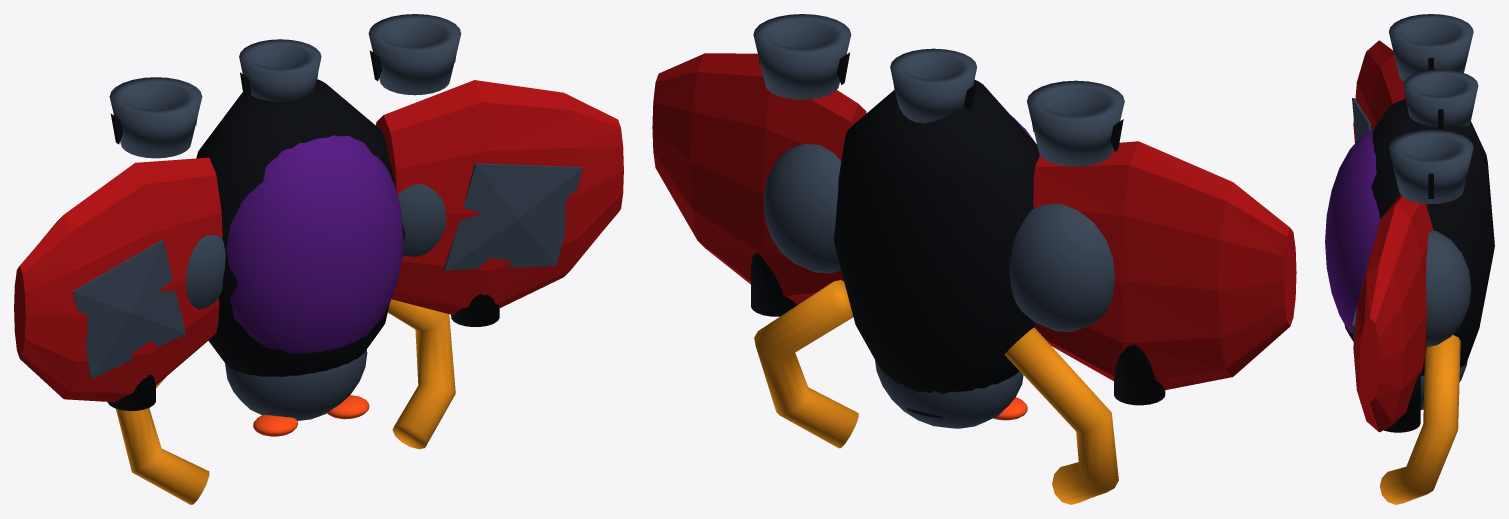
Rendered from jefe_acorazado.obj.
3 renders of one model, left to right at view 1: azimuth 30°, elevation 25°; view 2: azimuth 150°, elevation 25°; view 3: azimuth 270°, elevation 25°, orthographic. The views are drawn at different scales.
Parts seen in each view (by area): view 1: jefe_acorazado_Caparazon, jefe_acorazado_Acorazado_-1, jefe_acorazado_Acorazado_1, jefe_acorazado_Torax, jefe_acorazado_Placa_superior_-1, jefe_acorazado_Placa_superior_1, jefe_acorazado_Motor_1_tobera, jefe_acorazado_Motor_-1_tobera, jefe_acorazado_Pinza_-1, jefe_acorazado_Cabeza, jefe_acorazado_Motor_central_tobera, jefe_acorazado_Pinza_1 (+6 smaller); view 2: jefe_acorazado_Torax, jefe_acorazado_Acorazado_1, jefe_acorazado_Acorazado_-1, jefe_acorazado_Hombro_1, jefe_acorazado_Pinza_-1, jefe_acorazado_Pinza_1, jefe_acorazado_Hombro_-1, jefe_acorazado_Motor_1_tobera, jefe_acorazado_Motor_-1_tobera, jefe_acorazado_Motor_central_tobera, jefe_acorazado_Cabeza, jefe_acorazado_Canon_1 (+1 smaller); view 3: jefe_acorazado_Acorazado_-1, jefe_acorazado_Torax, jefe_acorazado_Caparazon, jefe_acorazado_Pinza_-1, jefe_acorazado_Motor_-1_tobera, jefe_acorazado_Motor_1_tobera, jefe_acorazado_Hombro_-1, jefe_acorazado_Motor_central_tobera, jefe_acorazado_Acorazado_1, jefe_acorazado_Canon_-1, jefe_acorazado_Placa_superior_1, jefe_acorazado_Cabeza.
Part boxes in pixels (x1,y1,x2,y2): jefe_acorazado_Caparazon: [226, 135, 403, 353]; jefe_acorazado_Acorazado_-1: [376, 80, 623, 315]; jefe_acorazado_Acorazado_1: [14, 157, 222, 402]; jefe_acorazado_Torax: [196, 79, 405, 376]; jefe_acorazado_Placa_superior_-1: [443, 163, 583, 270]; jefe_acorazado_Placa_superior_1: [73, 240, 185, 378]; jefe_acorazado_Motor_1_tobera: [109, 77, 202, 158]; jefe_acorazado_Motor_-1_tobera: [368, 14, 461, 95]; jefe_acorazado_Pinza_-1: [387, 299, 455, 449]; jefe_acorazado_Cabeza: [225, 349, 367, 420]; jefe_acorazado_Motor_central_tobera: [239, 39, 321, 101]; jefe_acorazado_Pinza_1: [116, 377, 209, 504]; jefe_acorazado_Torax: [833, 80, 1039, 418]; jefe_acorazado_Acorazado_1: [1033, 141, 1296, 390]; jefe_acorazado_Acorazado_-1: [652, 53, 866, 304]; jefe_acorazado_Hombro_1: [1009, 204, 1114, 331]; jefe_acorazado_Pinza_-1: [754, 280, 858, 448]; jefe_acorazado_Pinza_1: [1005, 327, 1118, 504]; jefe_acorazado_Hombro_-1: [763, 143, 841, 273]; jefe_acorazado_Motor_1_tobera: [1027, 80, 1124, 166]; jefe_acorazado_Motor_-1_tobera: [753, 14, 851, 99]; jefe_acorazado_Motor_central_tobera: [890, 48, 976, 123]; jefe_acorazado_Cabeza: [875, 360, 1023, 428]; jefe_acorazado_Canon_1: [1114, 344, 1165, 405]; jefe_acorazado_Acorazado_-1: [1353, 195, 1433, 432]; jefe_acorazado_Torax: [1344, 99, 1494, 375]; jefe_acorazado_Caparazon: [1325, 128, 1379, 333]; jefe_acorazado_Pinza_-1: [1379, 335, 1460, 504]; jefe_acorazado_Motor_-1_tobera: [1388, 129, 1473, 203]; jefe_acorazado_Motor_1_tobera: [1389, 14, 1473, 81]; jefe_acorazado_Hombro_-1: [1426, 230, 1471, 347]; jefe_acorazado_Motor_central_tobera: [1403, 69, 1478, 126]; jefe_acorazado_Acorazado_1: [1353, 40, 1405, 143]; jefe_acorazado_Canon_-1: [1384, 373, 1420, 432]; jefe_acorazado_Placa_superior_1: [1352, 98, 1371, 141]; jefe_acorazado_Cabeza: [1420, 360, 1467, 409].
Bounding box in the file's own units: 2.68 × 1.72 × 0.72.
